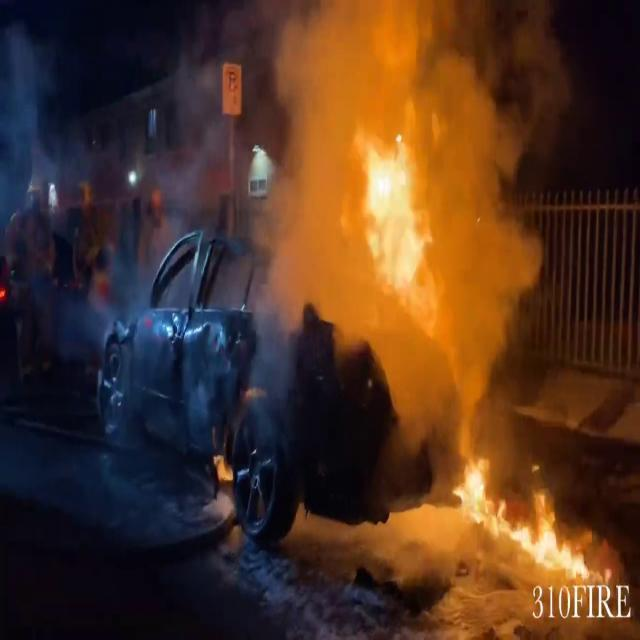Smoke: (232, 0, 576, 452), (0, 4, 66, 238)
